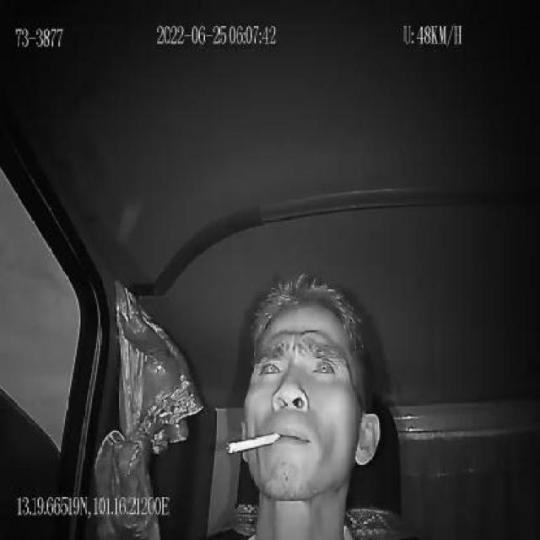smoking: (226, 428, 284, 456)
